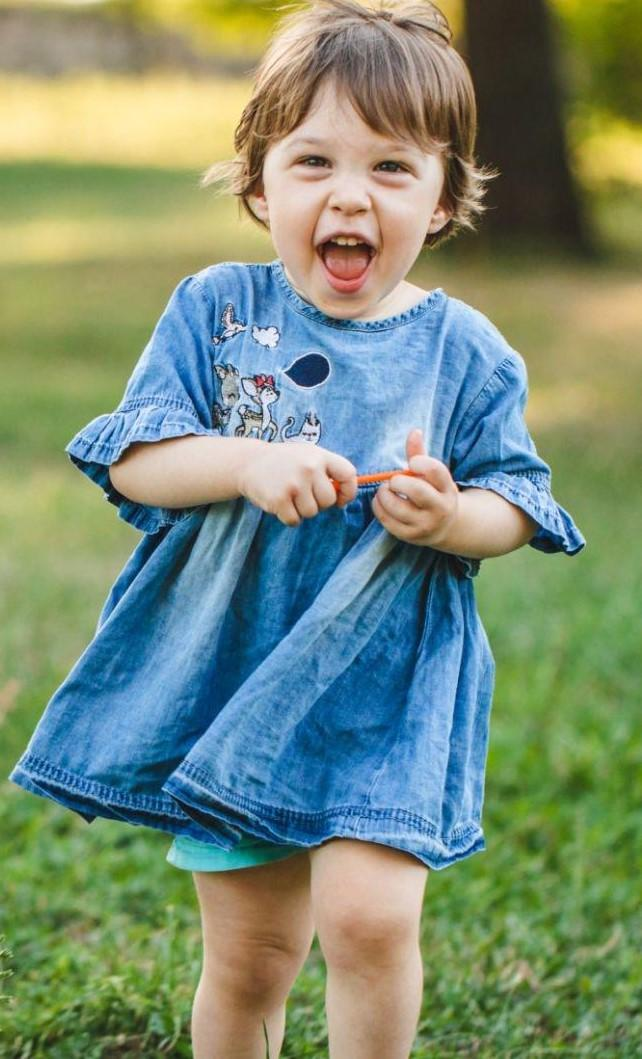Healthy: (234, 51, 457, 319)
